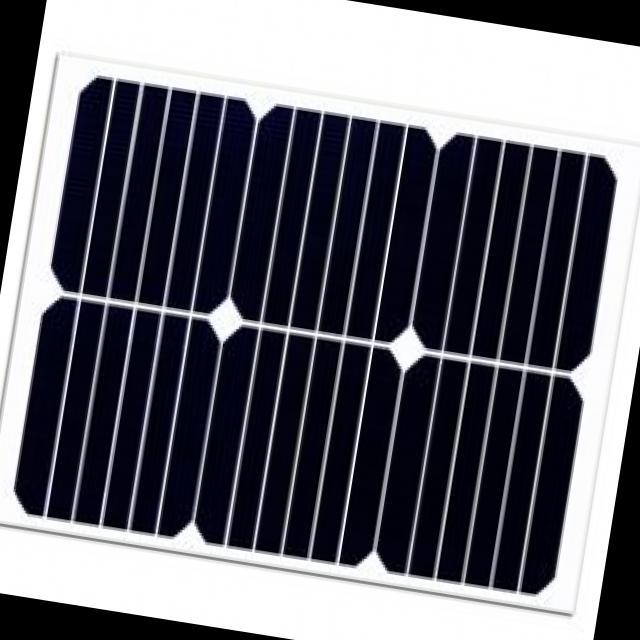no faulty: (3, 75, 621, 603)
